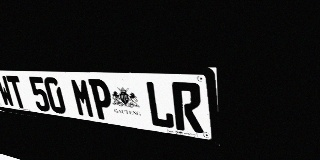0: (42, 77, 67, 114)
5: (28, 76, 52, 112)
L: (144, 81, 175, 129)
M: (69, 78, 96, 118)
P: (88, 79, 115, 121)
R: (171, 82, 204, 133)
T: (6, 76, 28, 109)
W: (0, 75, 15, 107)
